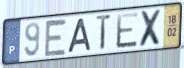9: (23, 21, 42, 58)
A: (66, 17, 93, 55)
E: (44, 18, 69, 59), (115, 10, 140, 50)
T: (94, 12, 113, 53)
X: (138, 8, 163, 49)
